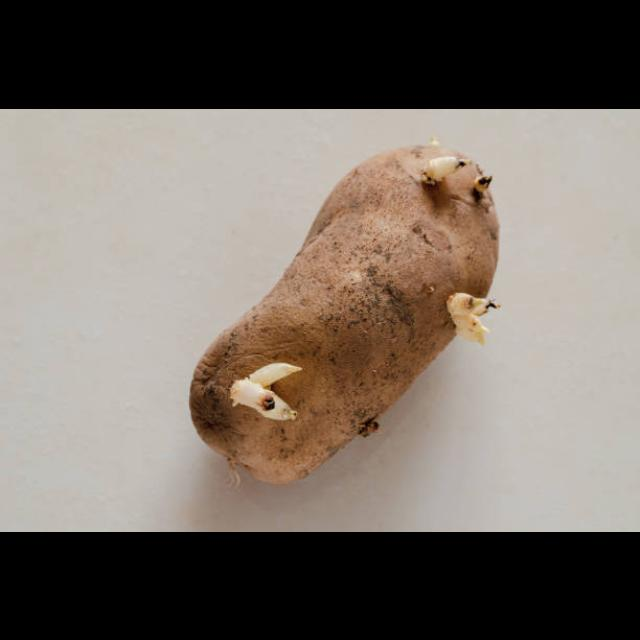Sprouted potato: (168, 126, 510, 488)
